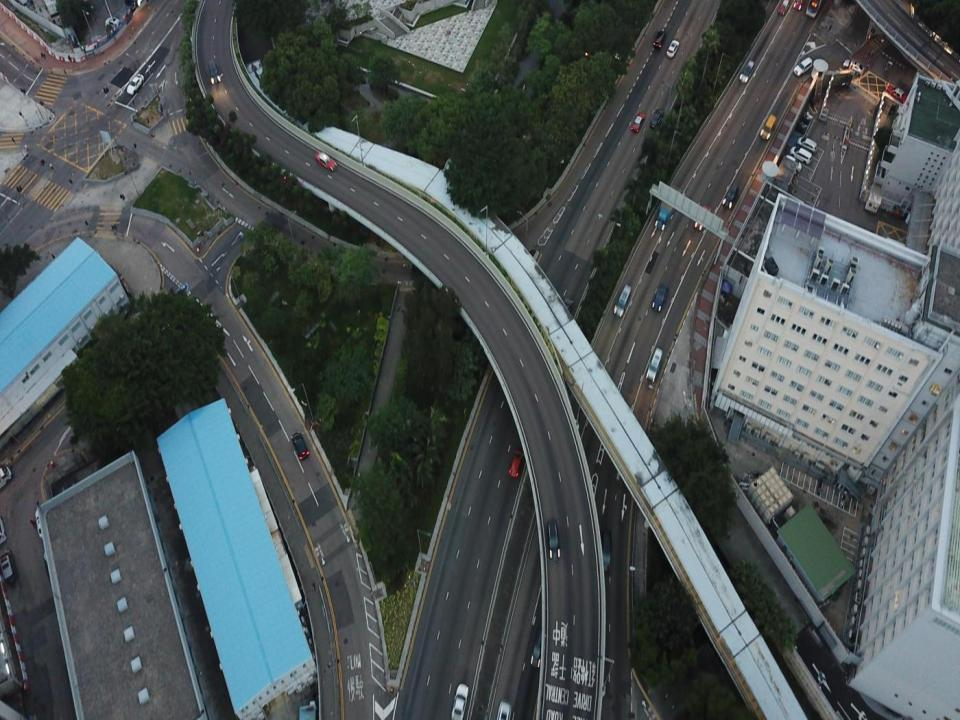car: (451, 683, 469, 719), (0, 547, 19, 581), (531, 632, 548, 668), (290, 431, 311, 459), (315, 147, 338, 172), (651, 285, 669, 313), (554, 297, 573, 323), (694, 204, 712, 230), (886, 82, 909, 102), (843, 58, 864, 77), (126, 74, 145, 94), (509, 449, 522, 478), (738, 60, 754, 82), (806, 0, 822, 21), (783, 154, 801, 172), (496, 699, 512, 719), (650, 108, 664, 130), (630, 112, 645, 132), (666, 39, 679, 57), (104, 15, 120, 29), (653, 31, 666, 48), (776, 0, 788, 16)
truck: (654, 184, 680, 232)
van: (546, 517, 562, 559), (614, 283, 631, 318), (646, 348, 663, 380), (599, 531, 611, 575), (790, 145, 813, 164), (722, 184, 739, 209), (0, 465, 14, 495), (206, 58, 222, 84), (760, 114, 776, 139), (796, 134, 817, 152), (794, 57, 812, 76), (0, 515, 8, 544)
